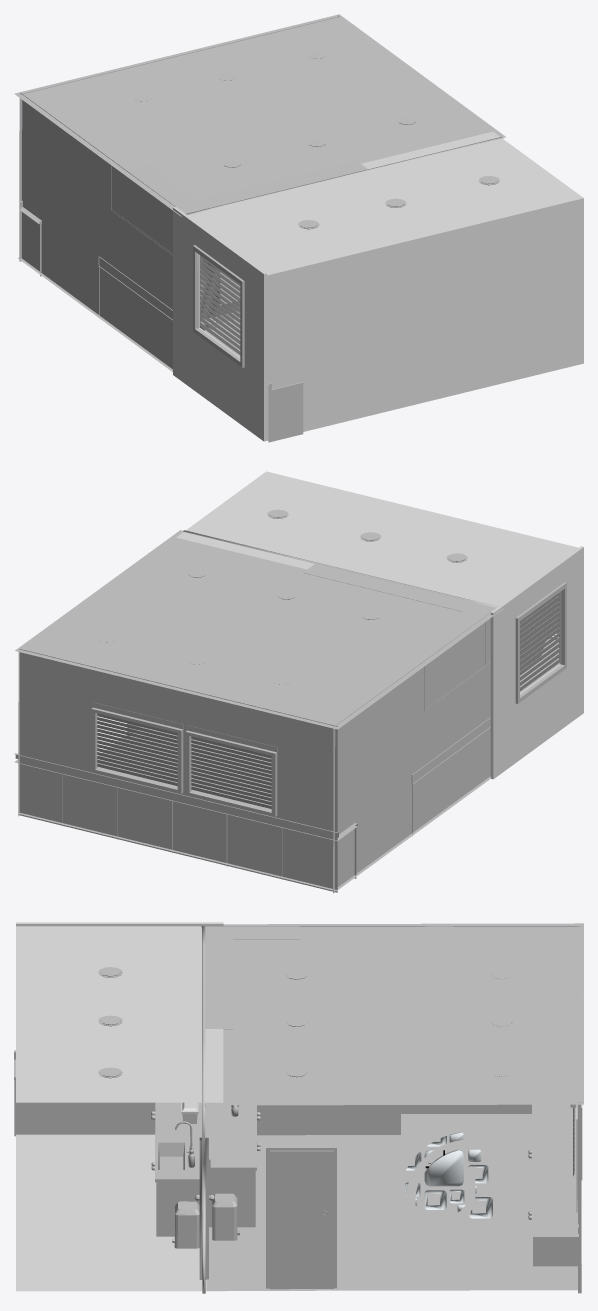
File: Roomtest.fbx
The picture shows the model from 3 angles, top to bottom: view 1: azimuth 30°, elevation 25°; view 2: azimuth 150°, elevation 25°; view 3: azimuth 270°, elevation 25°; orthographic projection. The views are drawn at different scales.
Visible parts, largest first — view 1: Wall.001, pCube1, window03, Sinks.003, Shelf; view 2: pCube1, Wall.001, window03, Sinks.003, Sinks.006, pCube31, pCube31.001; view 3: pCube1, Wall.001, pCube72, Sinks.001, Sinks.006, Shelf, Sinks.003, Sinks, Clock, Door, Trash, Trash.001.
Boxes of the visible parts, <box> form: Wall.001: <box>173,131,583,441</box>; pCube1: <box>14,14,505,371</box>; window03: <box>193,245,244,367</box>; Sinks.003: <box>111,160,367,255</box>; Shelf: <box>204,311,303,442</box>; pCube1: <box>15,530,503,893</box>; Wall.001: <box>176,471,583,779</box>; window03: <box>515,582,566,703</box>; Sinks.003: <box>303,563,495,711</box>; Sinks.006: <box>14,753,357,879</box>; pCube31: <box>185,730,277,816</box>; pCube31.001: <box>91,707,183,793</box>; pCube1: <box>201,923,583,1293</box>; Wall.001: <box>16,922,226,1291</box>; pCube72: <box>266,1147,336,1289</box>; Sinks.001: <box>205,1105,400,1227</box>; Sinks.006: <box>528,1104,578,1266</box>; Shelf: <box>14,1050,201,1136</box>; Sinks.003: <box>205,927,343,1029</box>; Sinks: <box>151,1121,199,1236</box>; Clock: <box>405,1132,492,1218</box>; Door: <box>194,1107,214,1279</box>; Trash: <box>212,1193,240,1240</box>; Trash.001: <box>172,1201,199,1248</box>.
Bounding box in the file's own units: 618 × 303 × 812.
